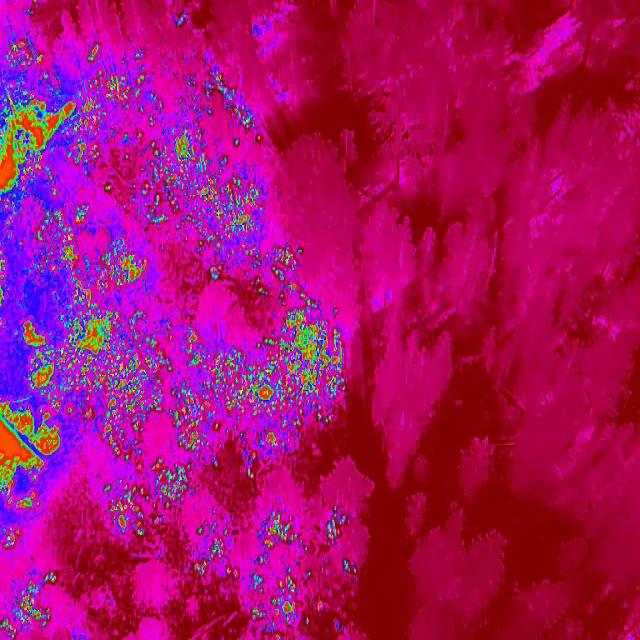fire: (166, 322, 348, 462), (0, 68, 151, 194), (59, 280, 162, 456), (185, 155, 268, 279), (0, 391, 66, 512), (104, 456, 200, 536), (150, 123, 210, 226), (250, 562, 322, 640), (202, 66, 266, 142), (0, 569, 56, 639), (36, 202, 96, 266), (12, 317, 63, 391), (269, 243, 312, 324), (192, 524, 242, 580), (96, 244, 150, 294), (254, 509, 304, 550), (5, 38, 45, 68), (0, 522, 25, 552), (324, 512, 348, 543), (85, 42, 106, 66), (0, 249, 8, 311)
